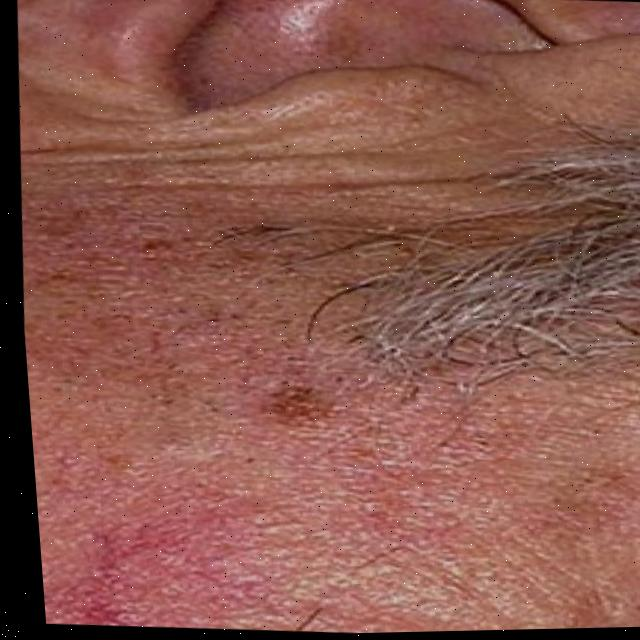Rosacea: (248, 354, 553, 556), (39, 471, 296, 636)
